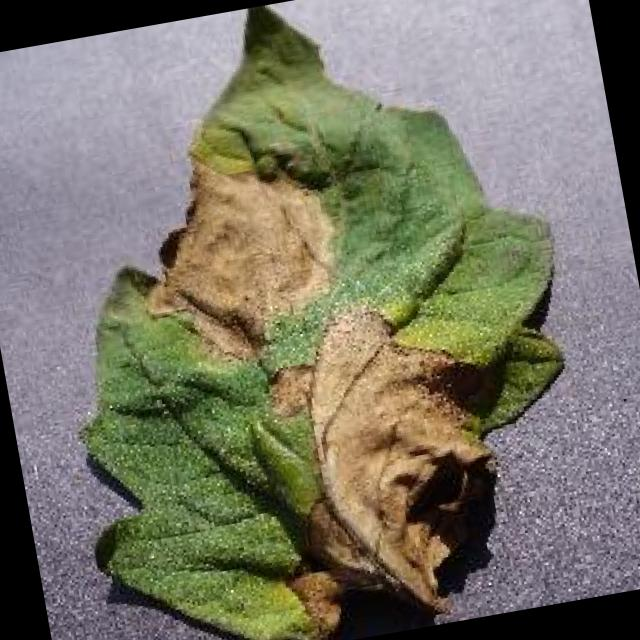Tomato_Late_Blight: (262, 311, 522, 640), (126, 122, 344, 358)
